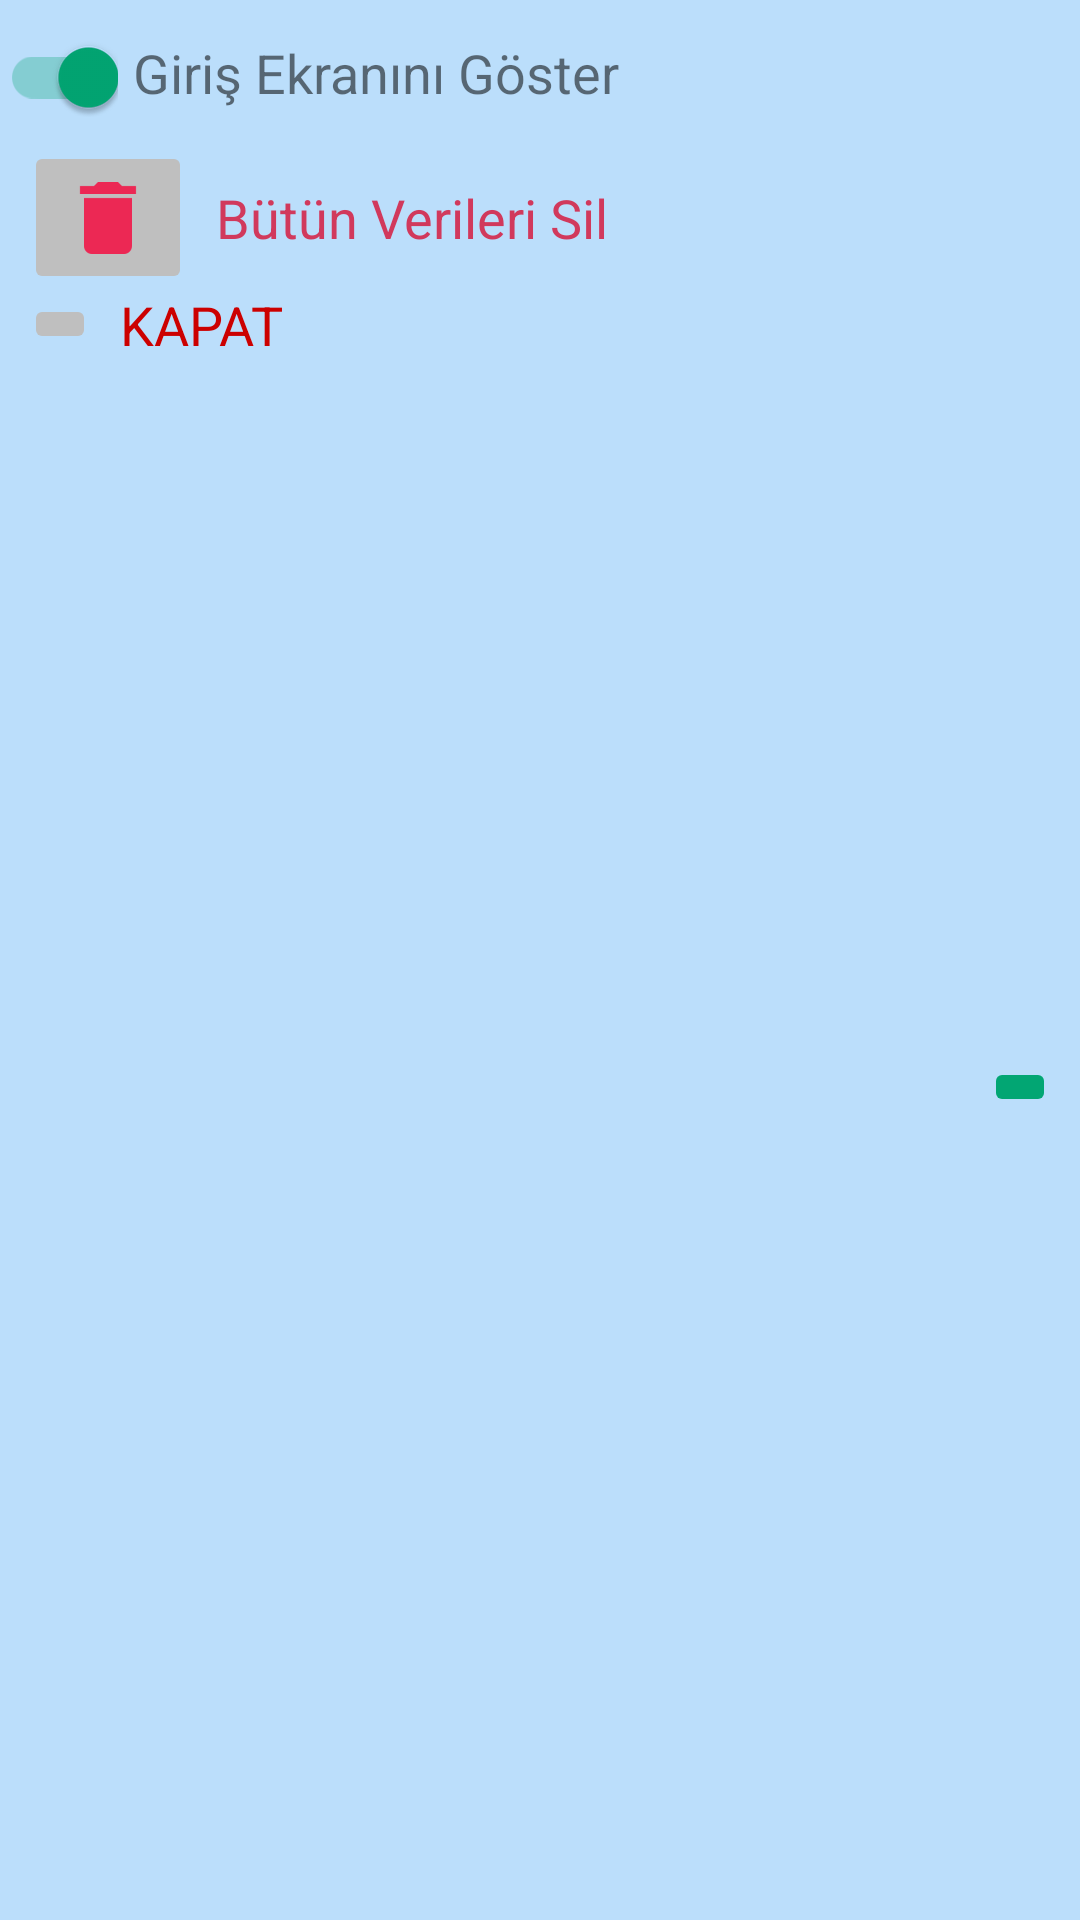

Point at icon controls on the screen. Image size 1080×1920, points as (x,y).
delete: (108,217)
